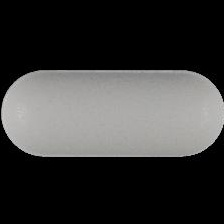51672-4125: (0, 0, 224, 224)
